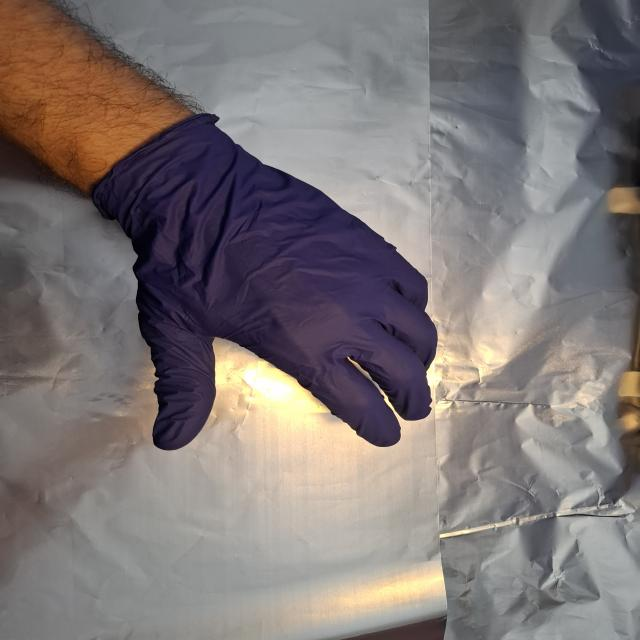glove_on: (88, 109, 441, 454)
